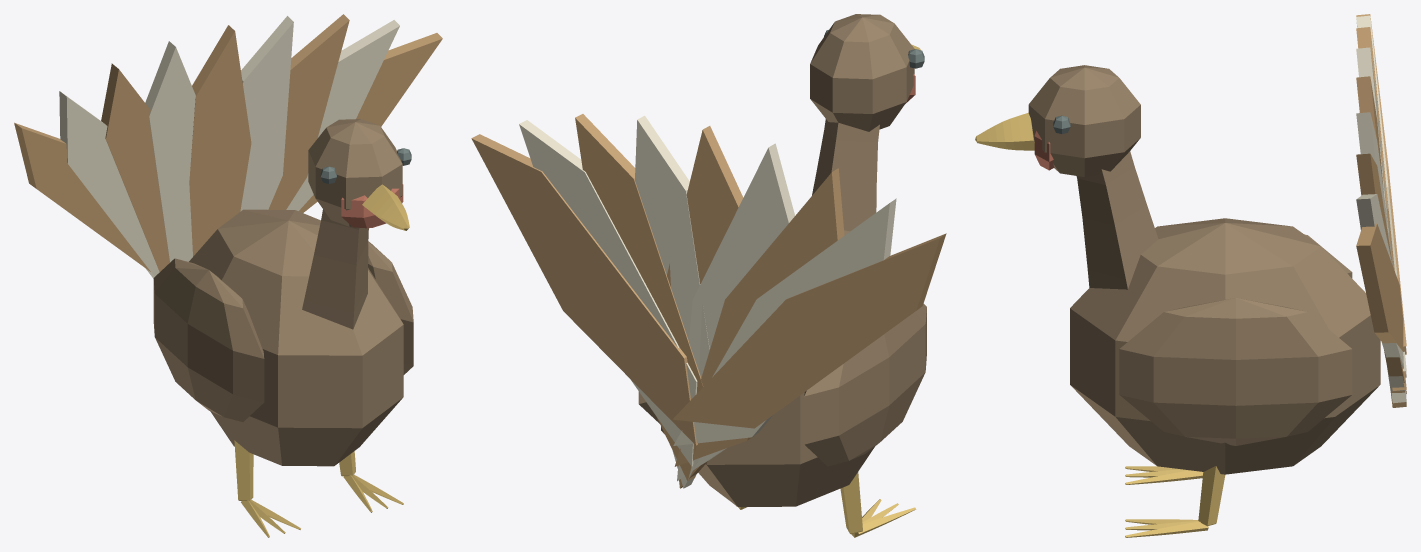
Rendered from farm-livestock-and-barnyard-turkey-tom-68446753__5030.glb.
3 views of the same model, side by side, from view 1: azimuth 30°, elevation 25°; view 2: azimuth 150°, elevation 25°; view 3: azimuth 270°, elevation 25° (orthographic). The views are drawn at different scales.
Parts seen in each view (by area): view 1: turkey-tom; view 2: turkey-tom; view 3: turkey-tom.
Part boxes in pixels (left/top/right/bottom): turkey-tom: left=14, top=14, right=442, bottom=537; turkey-tom: left=471, top=14, right=946, bottom=537; turkey-tom: left=975, top=14, right=1406, bottom=537.
Bounding box in the file's own units: 0.7245 × 0.6785 × 0.6076.
